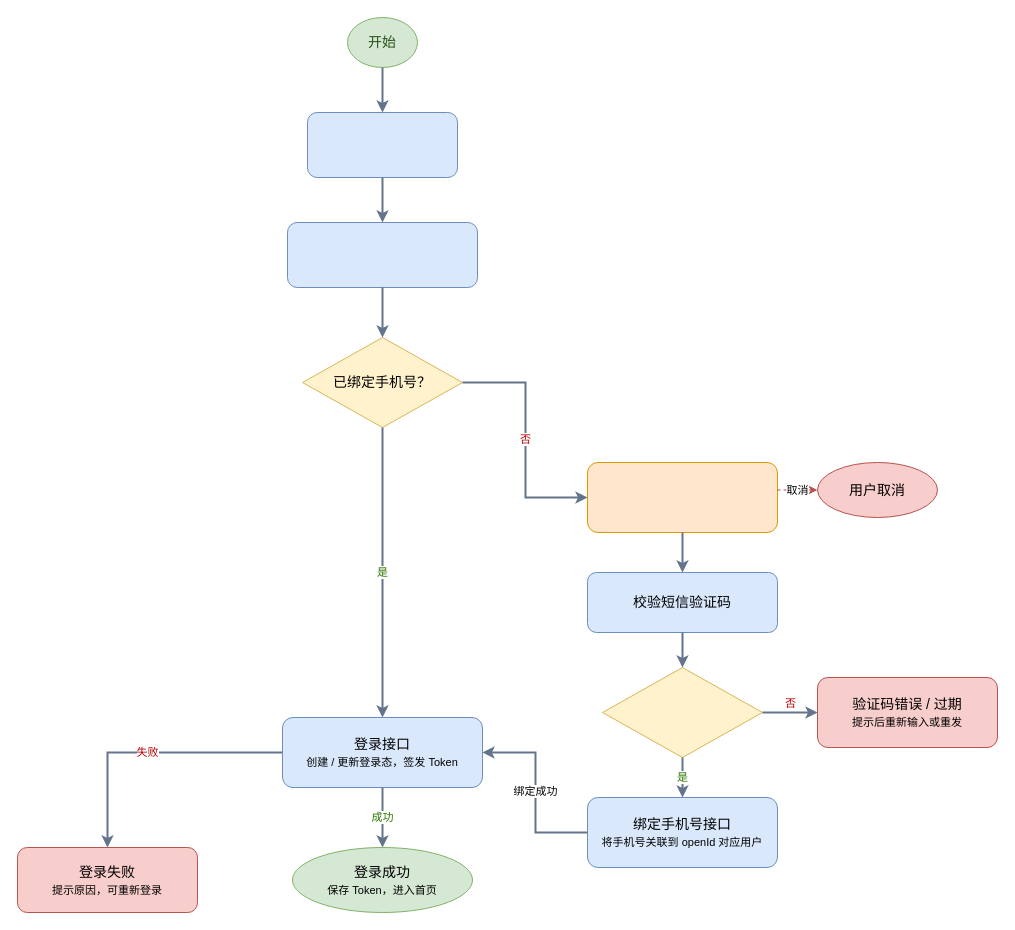
Image size: 1015x930. Some labels were removed from this diagram. Each missing label, with the centre of its shape:
手机号验证页面 输入手机号及短信验证码: the point at 682,497
查询手机号绑定状态 根据 openId 查询用户: the point at 382,255
获取 openId 调用小程序登录能力: the point at 382,145
验证码正确？: the point at 682,712
